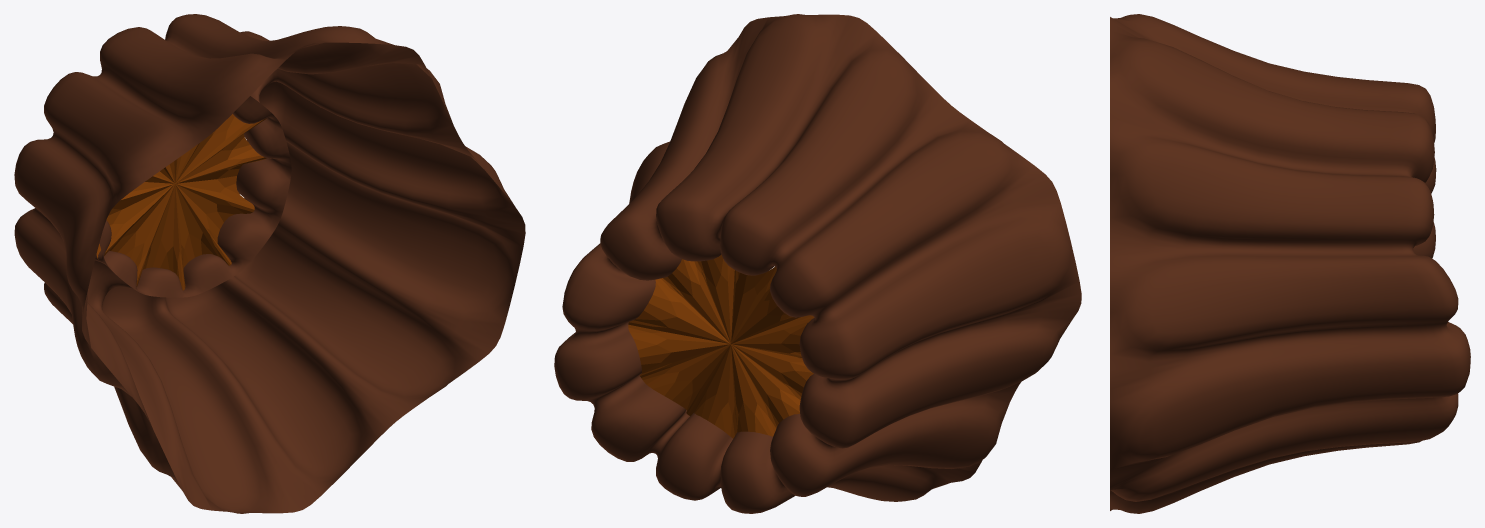
The model's file is Trunk2_Fixed.fbx.
The picture shows the model from 3 angles, left to right: view 1: azimuth 30°, elevation 25°; view 2: azimuth 150°, elevation 25°; view 3: azimuth 270°, elevation 25°; orthographic projection. The views are drawn at different scales.
Parts seen in each view (by area): view 1: Trunk2; view 2: Trunk2; view 3: Trunk2.
Part boxes in pixels (x1=…): Trunk2: x1=14, y1=14, x2=525, y2=513; Trunk2: x1=554, y1=14, x2=1081, y2=513; Trunk2: x1=1110, y1=14, x2=1470, y2=513.
Bounding box in the file's own units: 243 × 243 × 161.
